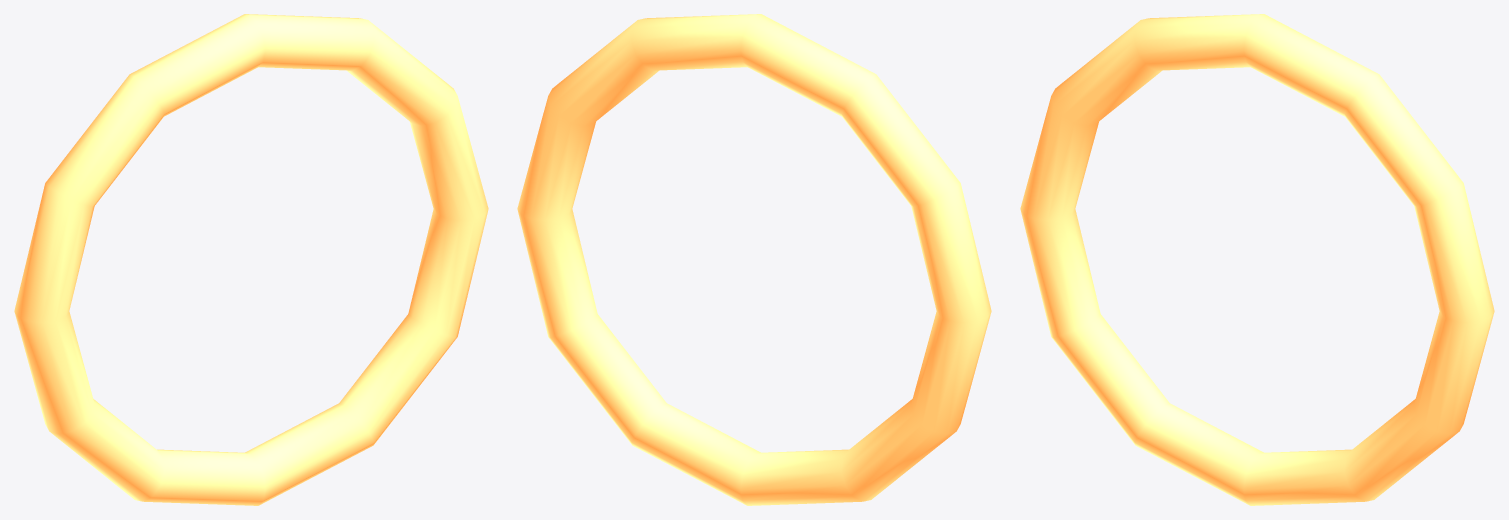
Rendered from torus_colored.glb.
3 views of the same model, side by side, from view 1: azimuth 30°, elevation 25°; view 2: azimuth 150°, elevation 25°; view 3: azimuth 330°, elevation 25° (orthographic).
Visible parts, largest first — view 1: Torus; view 2: Torus; view 3: Torus.
Part boxes in pixels (left/top/right/bottom): Torus: left=14, top=14, right=488, bottom=505; Torus: left=517, top=14, right=991, bottom=505; Torus: left=1020, top=14, right=1494, bottom=505.
Bounding box in the file's own units: 0.49 × 0.49 × 0.05.
